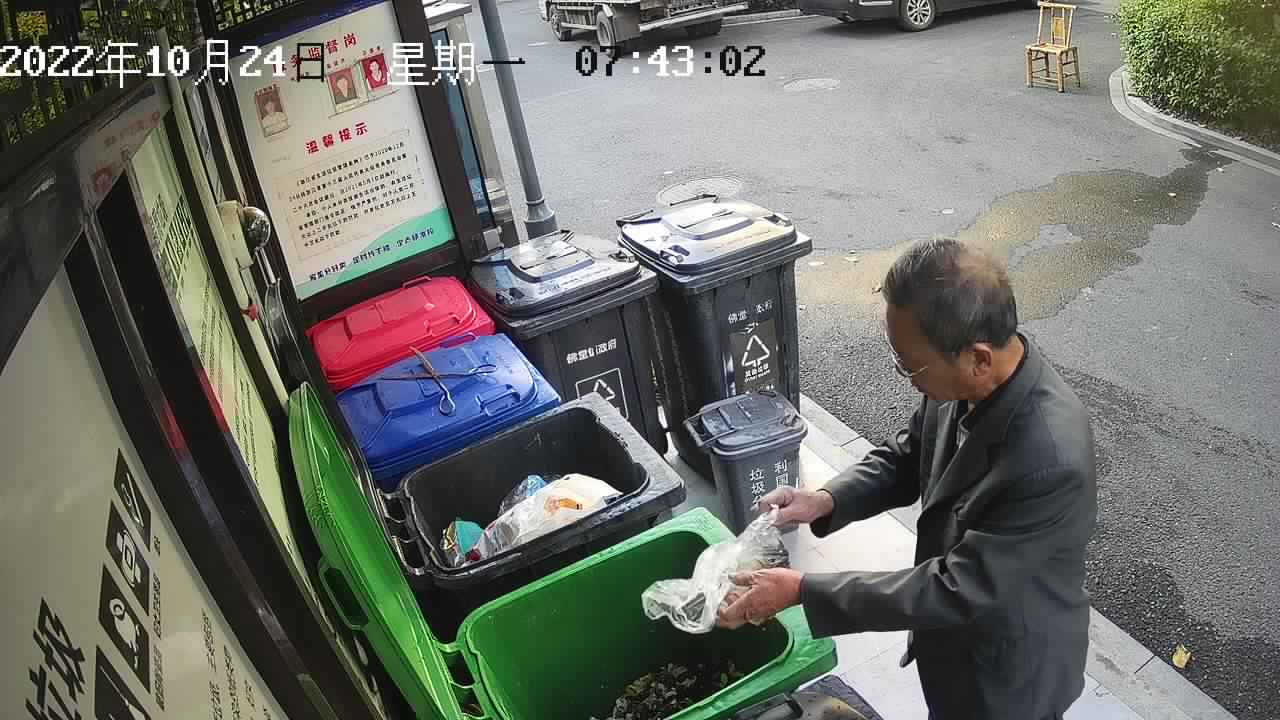person: (712, 228, 1104, 720)
